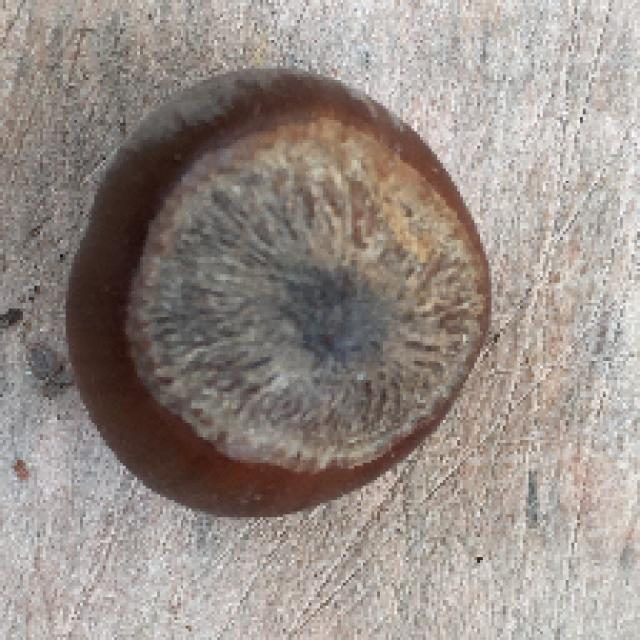damagedHazelnut: (58, 56, 500, 521)
